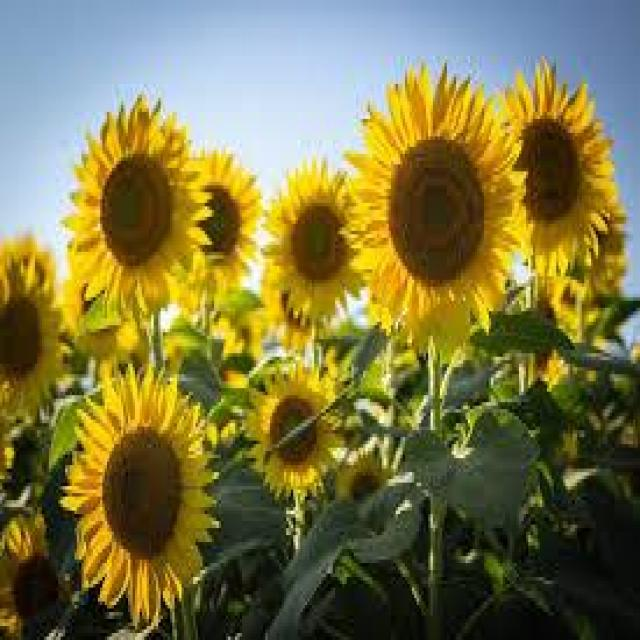organic waste: (325, 68, 520, 369), (54, 372, 218, 607), (66, 94, 208, 329), (469, 63, 622, 280), (257, 150, 374, 326), (172, 133, 266, 304), (246, 371, 346, 504)
